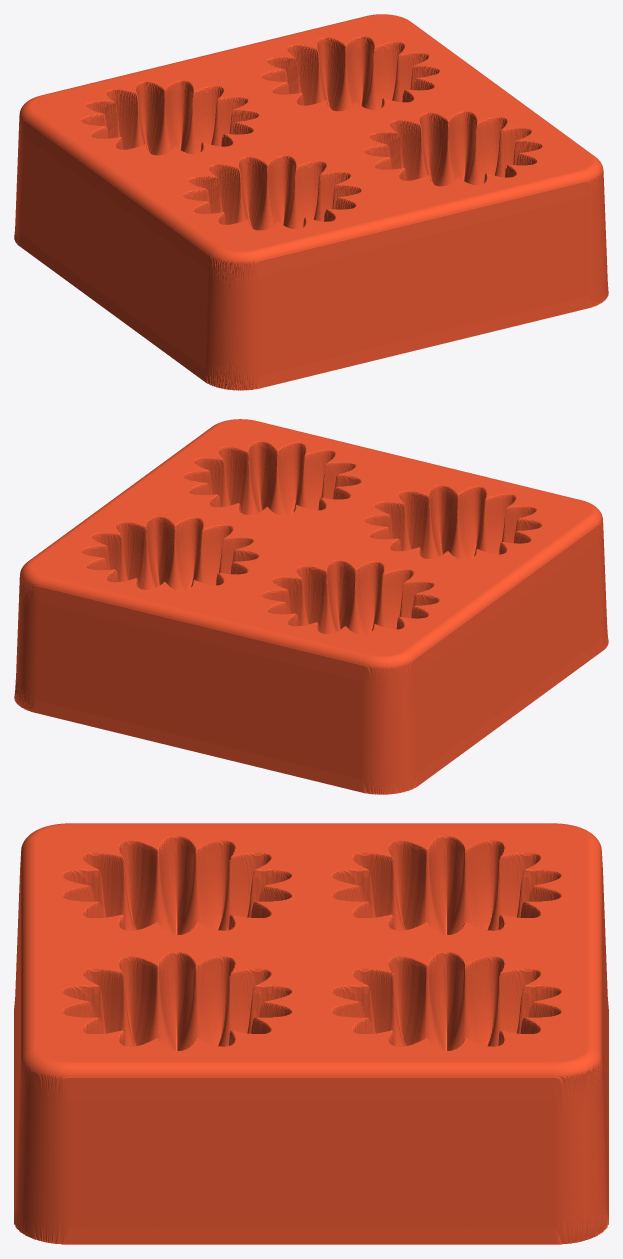
Rendered from mold.glb.
3 renders of one model, top to bottom at view 1: azimuth 30°, elevation 25°; view 2: azimuth 150°, elevation 25°; view 3: azimuth 270°, elevation 25°, orthographic. The views are drawn at different scales.
Parts seen in each view (by area): view 1: geometry_0; view 2: geometry_0; view 3: geometry_0.
Boxes of the visible parts, x1,y1,x2,y2 form: geometry_0: (14, 14, 608, 390); geometry_0: (14, 419, 608, 794); geometry_0: (14, 823, 608, 1244).
Size of the model in its own units: 0.0992 by 0.0314 by 0.0976.
